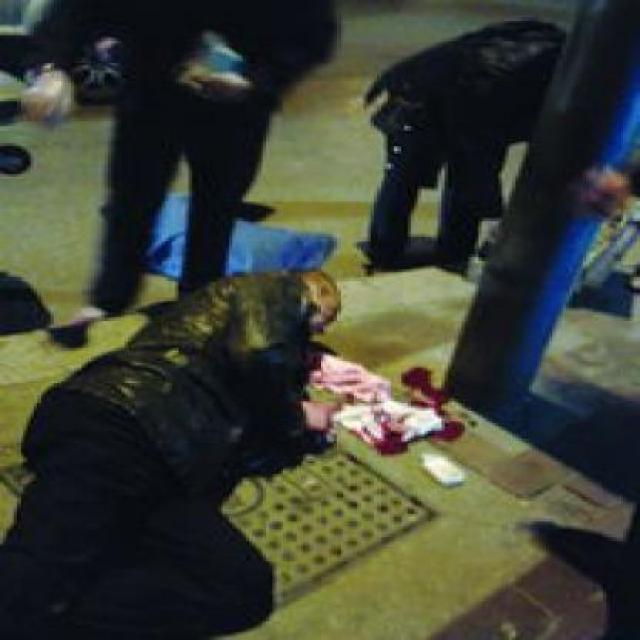fall: (0, 252, 357, 636)
